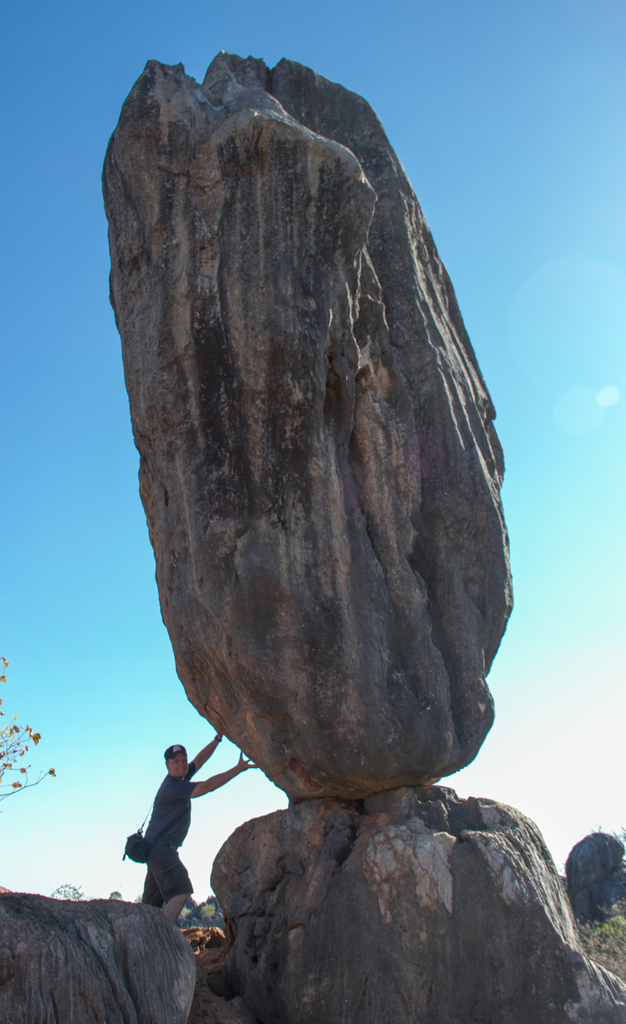Person: (122, 730, 259, 923)
